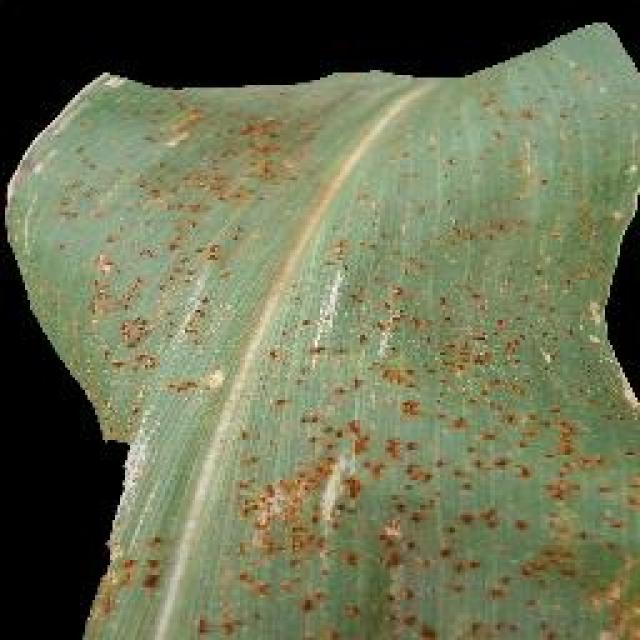Corn Common Rust: (123, 134, 625, 638)
